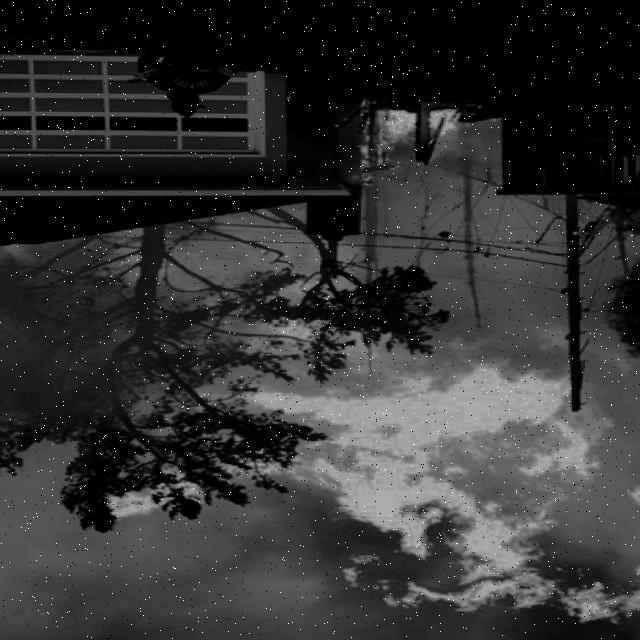api: (149, 353, 640, 640), (362, 97, 462, 161), (95, 477, 221, 525)
